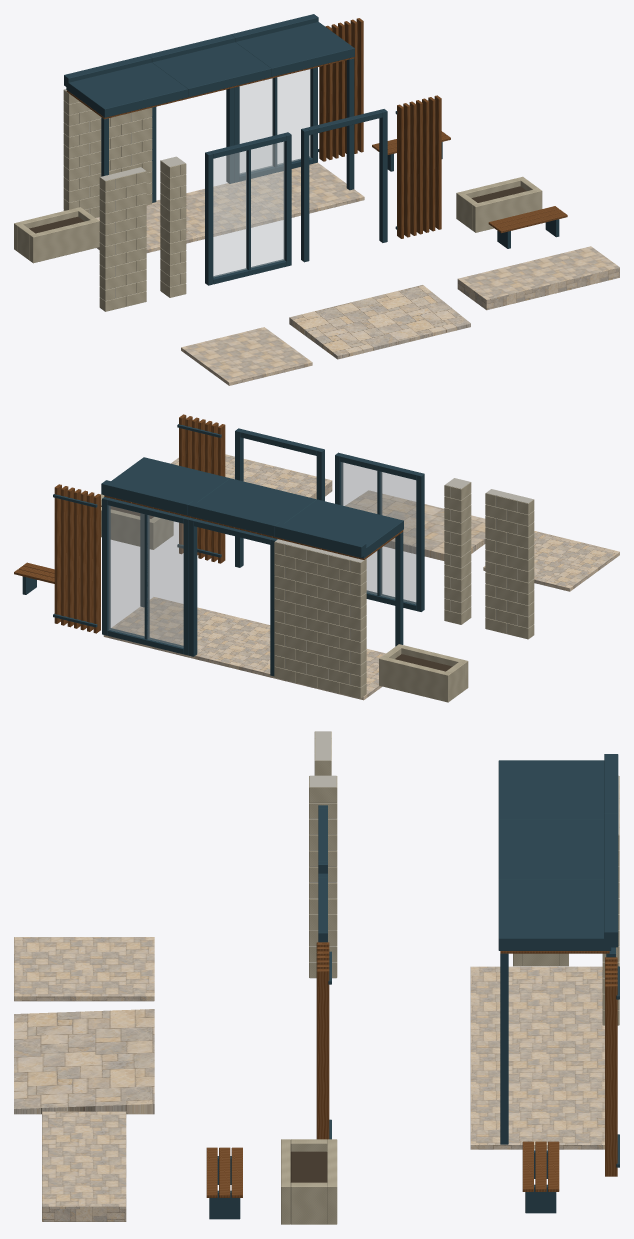
Rendered from campus-kit-assembly.glb.
3 views of the same model, one above another, from view 1: azimuth 30°, elevation 25°; view 2: azimuth 150°, elevation 25°; view 3: azimuth 270°, elevation 25° (orthographic). The views are drawn at different scales.
Visible parts, largest first — view 1: window-2m.002, ramp-3p2x2.001, wall-2m.001, window-2m.001, wall-1m.001, fin-screen-1m.002, landing.001, paving-2m.004, canopy-2m.001, fin-screen-1m.001, canopy-2m.002, canopy-2m.003 (+13 smaller); view 2: wall-2m.001, window-2m.001, window-2m.002, wall-1m.001, fin-screen-1m.001, pier.001, planter.001, fin-screen-1m.002, canopy-2m.001, ramp-3p2x2.001, paving-2m.004, paving-2m.003 (+14 smaller); view 3: ramp-3p2x2.001, landing.001, paving-2m.004, canopy-2m.003, paving-2m.003, paving-2m.002, paving-2m.001, canopy-2m.002, canopy-2m.001, planter.002, pier.001, fin-screen-1m.001 (+12 smaller).
Boxes of the visible parts, x1,y1,x2,y2 form: window-2m.002: (205, 132, 291, 285); ramp-3p2x2.001: (289, 285, 470, 359); wall-2m.001: (63, 89, 152, 217); window-2m.001: (234, 67, 317, 182); wall-1m.001: (99, 167, 146, 311); fin-screen-1m.002: (395, 95, 441, 238); landing.001: (457, 246, 619, 310); paving-2m.004: (181, 327, 312, 385); canopy-2m.001: (66, 62, 187, 119); fin-screen-1m.001: (318, 18, 363, 161); canopy-2m.002: (152, 42, 271, 98); canopy-2m.003: (235, 22, 354, 78); wall-2m.001: (274, 539, 366, 698); window-2m.001: (102, 497, 190, 655); window-2m.002: (335, 452, 424, 611); wall-1m.001: (485, 489, 534, 639); fin-screen-1m.001: (53, 484, 100, 633); pier.001: (444, 478, 471, 624); planter.001: (379, 644, 468, 702); fin-screen-1m.002: (177, 414, 225, 563); canopy-2m.001: (277, 499, 403, 559); ramp-3p2x2.001: (345, 490, 485, 560); paving-2m.004: (483, 531, 619, 591); paving-2m.003: (103, 597, 239, 657); ramp-3p2x2.001: (14, 1009, 154, 1114); landing.001: (42, 1111, 126, 1221); paving-2m.004: (14, 937, 154, 1001); canopy-2m.003: (498, 879, 611, 953); paving-2m.003: (470, 1085, 604, 1149); paving-2m.002: (470, 1026, 604, 1085); paving-2m.001: (470, 966, 604, 1025); canopy-2m.002: (498, 819, 604, 879); canopy-2m.001: (498, 760, 604, 819); planter.002: (281, 1139, 337, 1224); pier.001: (309, 775, 337, 978); fin-screen-1m.001: (605, 957, 619, 1176).
Size of the model in its own units: 10.3 by 3.42 by 8.62.
7 materials, 3 textured.
